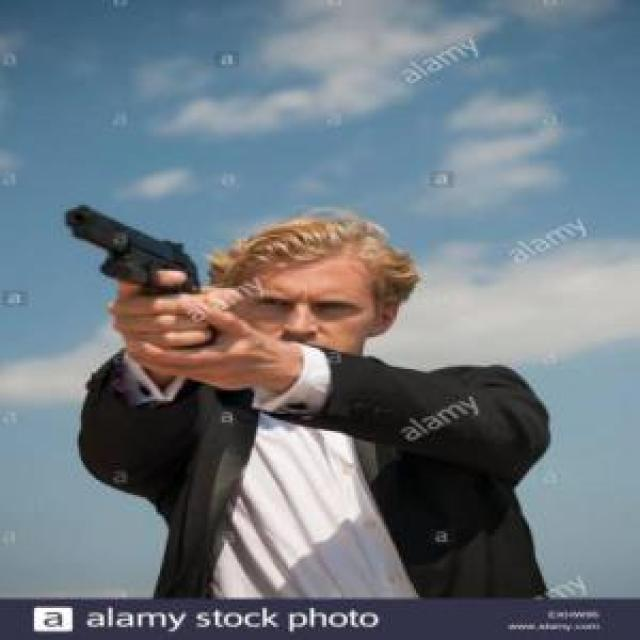pistol: (58, 198, 225, 351)
